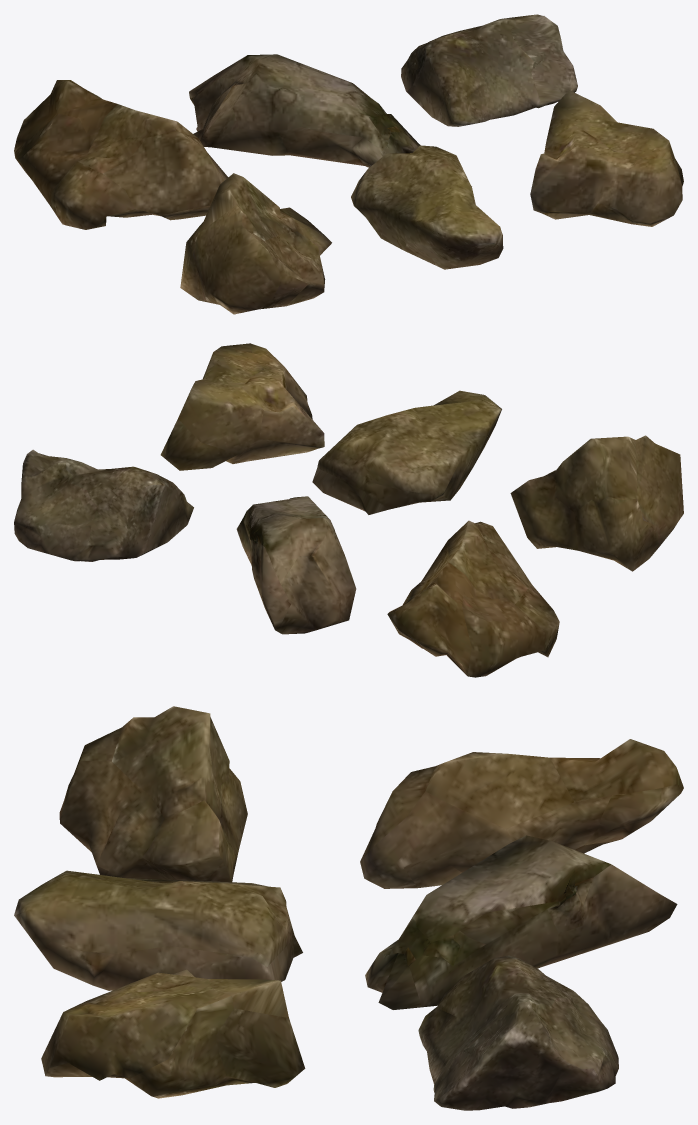
The model's file is rocks_a.glb.
3 renders of one model, top to bottom at view 1: azimuth 30°, elevation 25°; view 2: azimuth 150°, elevation 25°; view 3: azimuth 270°, elevation 25°, orthographic. The views are drawn at different scales.
Visible parts, largest first — view 1: rock_moss_set_01_rock01, rock_moss_set_01_rock03; view 2: rock_moss_set_01_rock01, rock_moss_set_01_rock03; view 3: rock_moss_set_01_rock01, rock_moss_set_01_rock03.
Boxes of the visible parts, bbox=[...] form: rock_moss_set_01_rock01: bbox=[14, 54, 683, 314]; rock_moss_set_01_rock03: bbox=[401, 14, 577, 126]; rock_moss_set_01_rock01: bbox=[160, 343, 683, 677]; rock_moss_set_01_rock03: bbox=[14, 449, 193, 561]; rock_moss_set_01_rock01: bbox=[14, 706, 683, 1098]; rock_moss_set_01_rock03: bbox=[418, 955, 618, 1110].
Bounding box in the file's own units: 8 × 1.75 × 6.94.
Materials: 1 (1 with a texture image).
